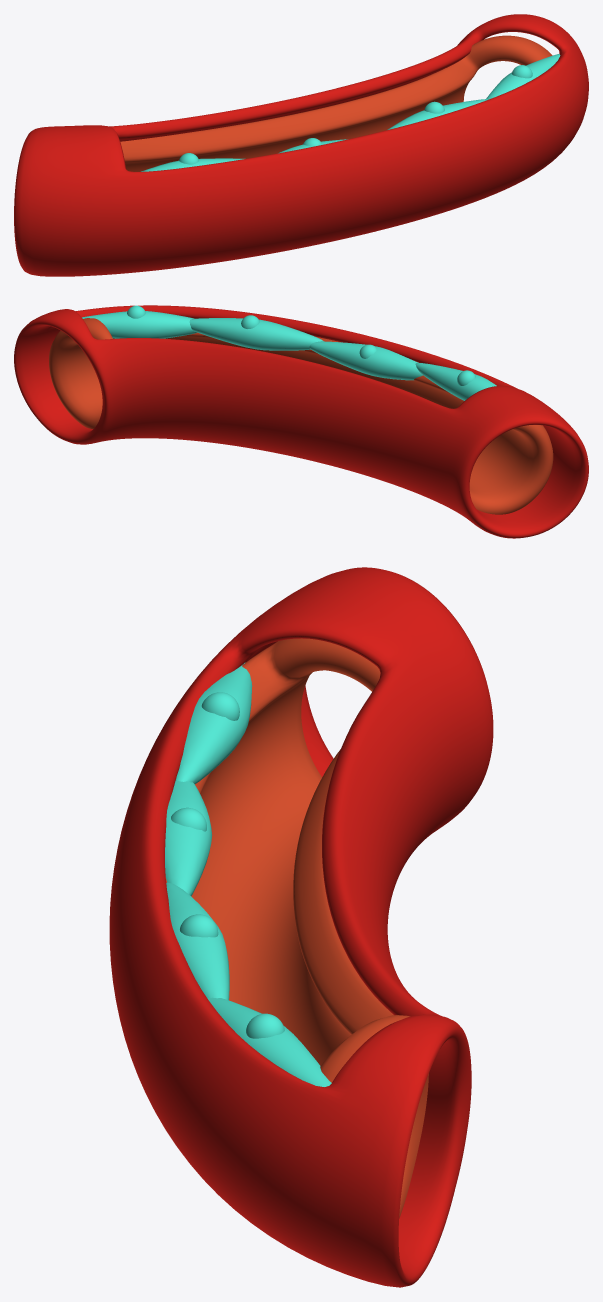
The model's file is VasoFinal9.fbx.
The picture shows the model from 3 angles, top to bottom: view 1: azimuth 30°, elevation 25°; view 2: azimuth 150°, elevation 25°; view 3: azimuth 270°, elevation 25°; orthographic projection. The views are drawn at different scales.
Visible parts, largest first — view 1: VasoExterior, VasoInterior, Celula4, Celula3, Celula1; view 2: VasoExterior, VasoInterior, Celula3, Celula2, Celula4, Celula1; view 3: VasoExterior, VasoInterior, Celula1, Celula2, Celula3, Celula4.
Boxes of the visible parts, bbox=[...] form: VasoExterior: bbox=[14, 14, 588, 276]; VasoInterior: bbox=[120, 35, 552, 171]; Celula4: bbox=[486, 54, 560, 99]; Celula3: bbox=[387, 99, 488, 129]; Celula1: bbox=[141, 158, 245, 171]; VasoExterior: bbox=[14, 305, 588, 538]; VasoInterior: bbox=[49, 318, 553, 514]; Celula3: bbox=[189, 318, 323, 350]; Celula2: bbox=[309, 341, 422, 380]; Celula4: bbox=[82, 311, 196, 338]; Celula1: bbox=[415, 363, 496, 400]; VasoExterior: bbox=[109, 567, 493, 1287]; VasoInterior: bbox=[165, 638, 428, 1218]; Celula1: bbox=[175, 662, 252, 783]; Celula2: bbox=[165, 781, 212, 895]; Celula3: bbox=[166, 882, 229, 1000]; Celula4: bbox=[207, 997, 331, 1086].
Size of the model in its own units: 229 by 53.35 by 69.31.
